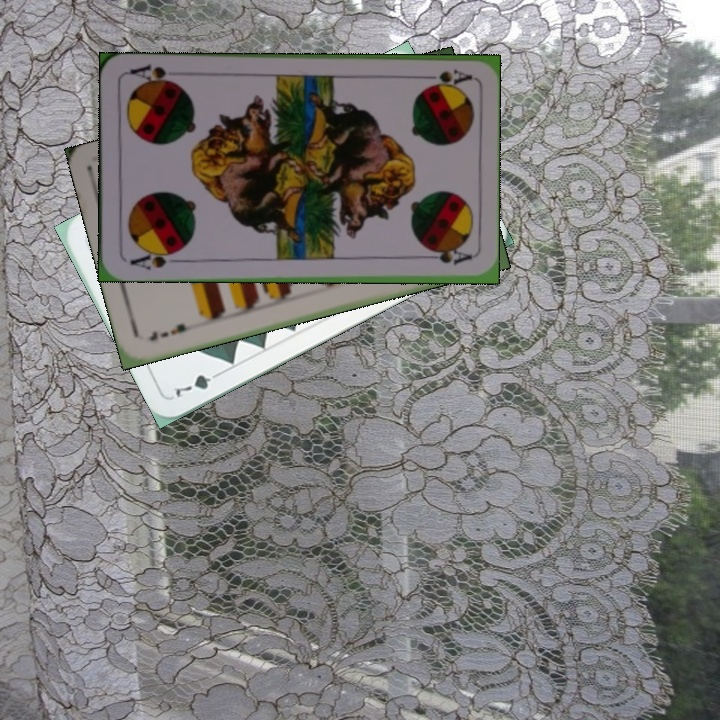E7: (144, 319, 199, 344)
G7: (169, 367, 225, 400)
SA: (126, 246, 182, 272), (414, 65, 473, 89)
